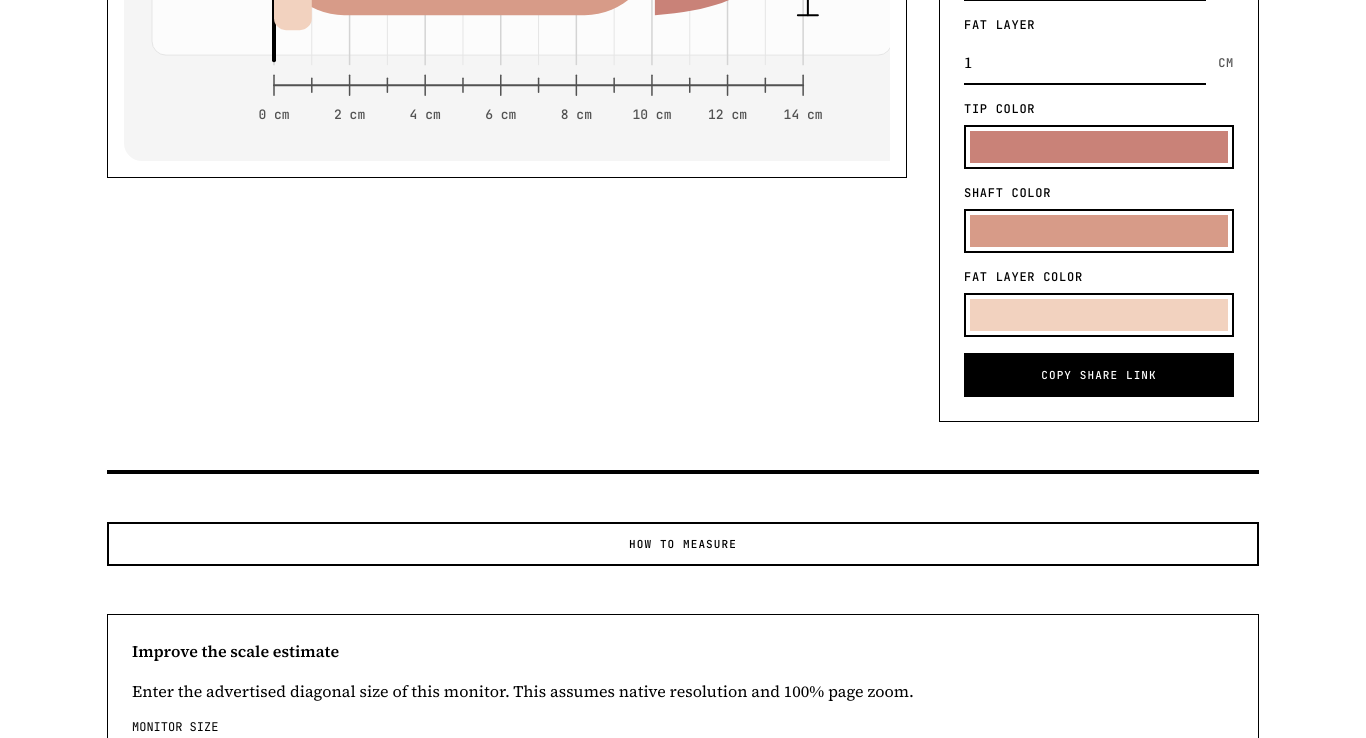
Scenario: App › reports clipboard failures with actionable feedback
(page scrolled)
Click the button "Copy share link".
click(1099, 374)  # box x1=964 y1=352 x2=1234 y2=396
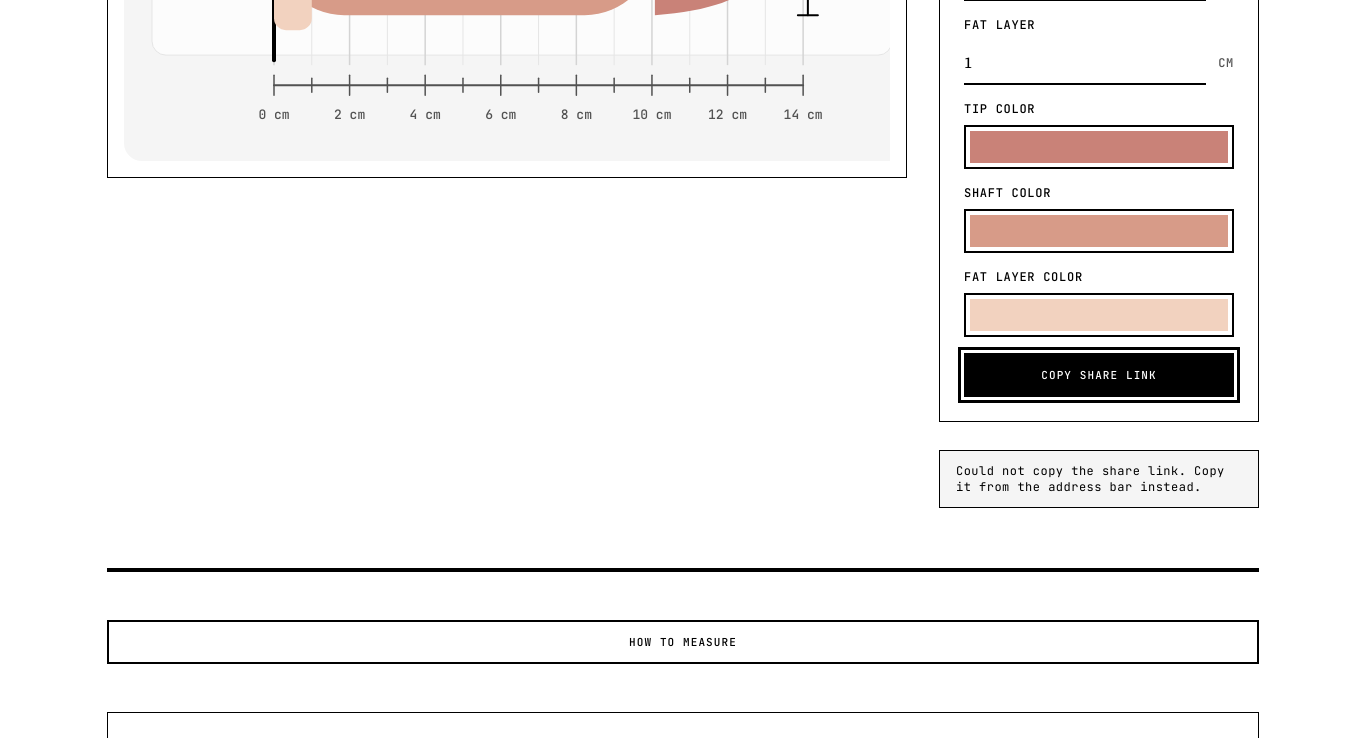
Check: the message reads "Could not copy the share link. Copy it from the address bar instead.", box x1=956 y1=462 x2=1225 y2=494
